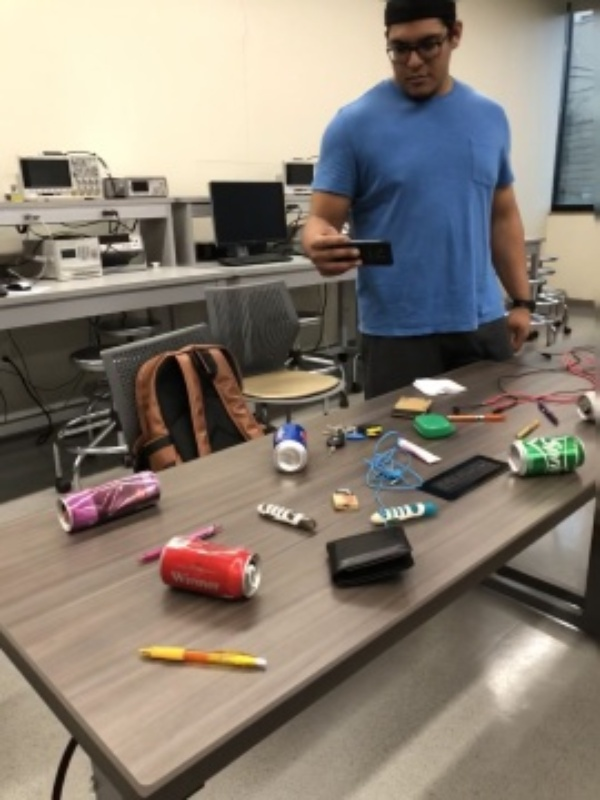can: (52, 465, 167, 538), (159, 530, 266, 603), (504, 429, 591, 481), (268, 421, 312, 477), (571, 386, 600, 424)
